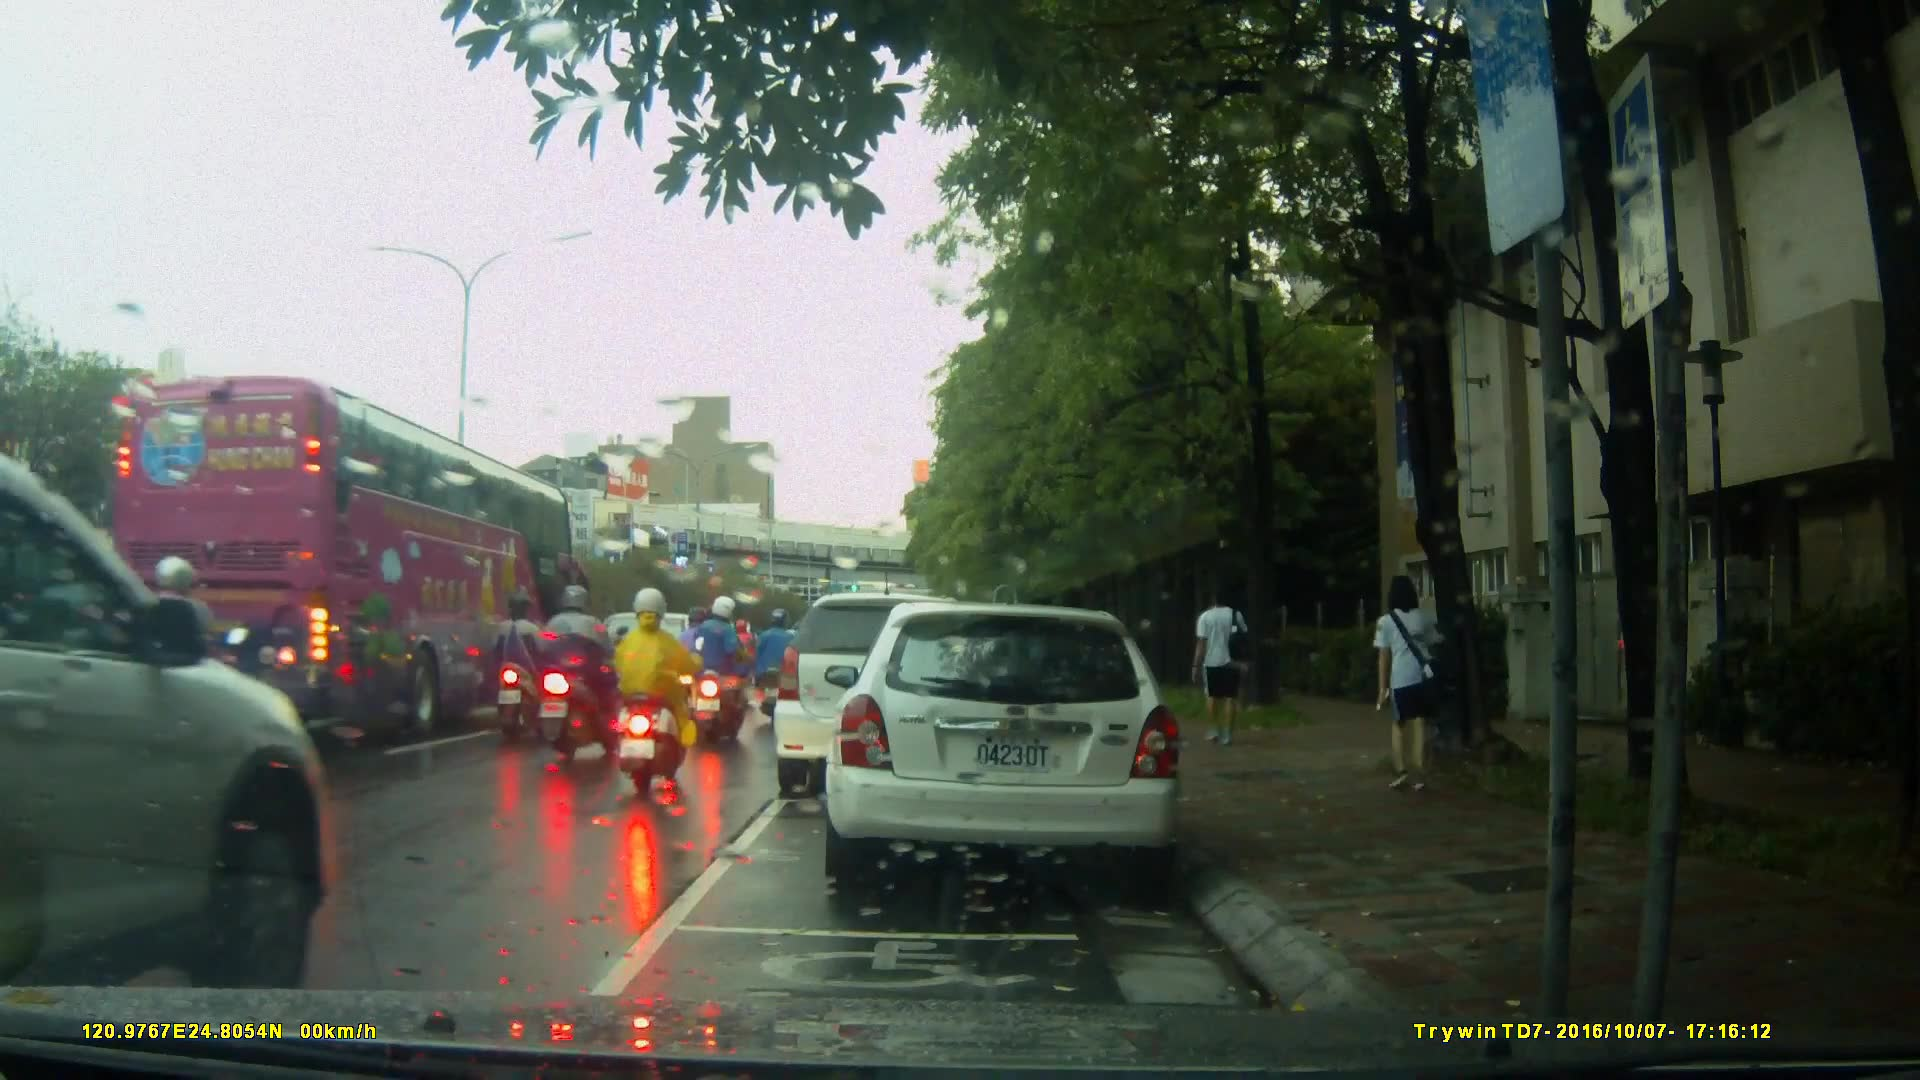pedestrian: (1360, 575, 1446, 802), (1180, 581, 1242, 750)
rider: (105, 553, 250, 821), (621, 590, 704, 800), (542, 581, 619, 764), (688, 593, 750, 757), (494, 593, 554, 745), (752, 607, 814, 732), (680, 598, 726, 716), (722, 617, 761, 694)
vehicle: (1, 445, 338, 987), (99, 371, 577, 738), (835, 594, 1194, 898), (776, 590, 1026, 784), (583, 610, 726, 730)
